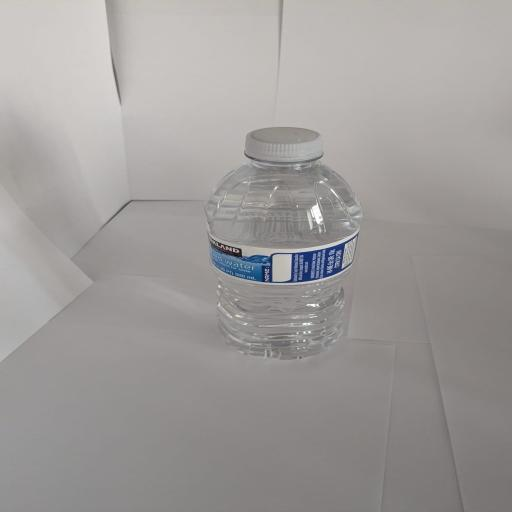waterbottle: (206, 128, 361, 358)
